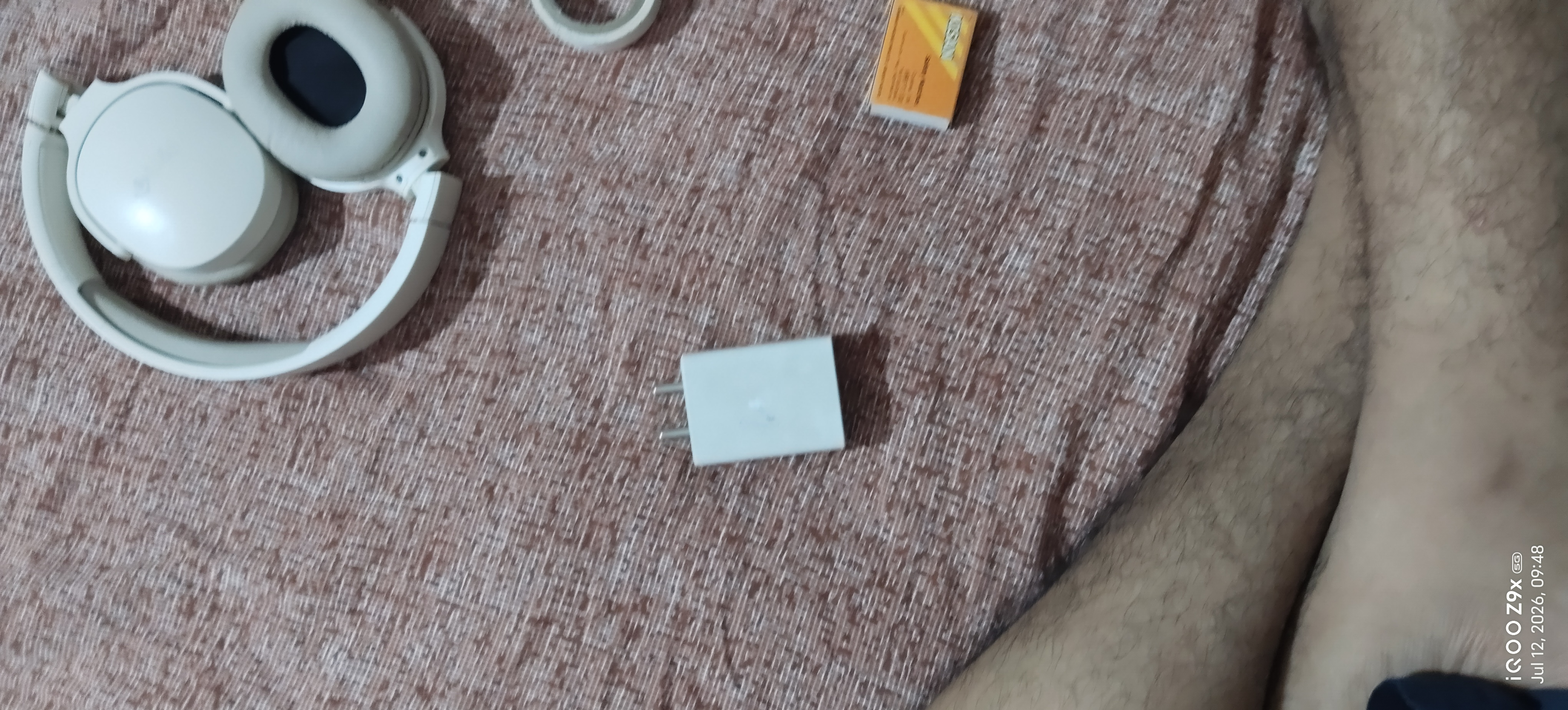charger: (637, 320, 861, 479)
matchbox: (858, 0, 985, 140)
tape_roll: (521, 0, 681, 65)
